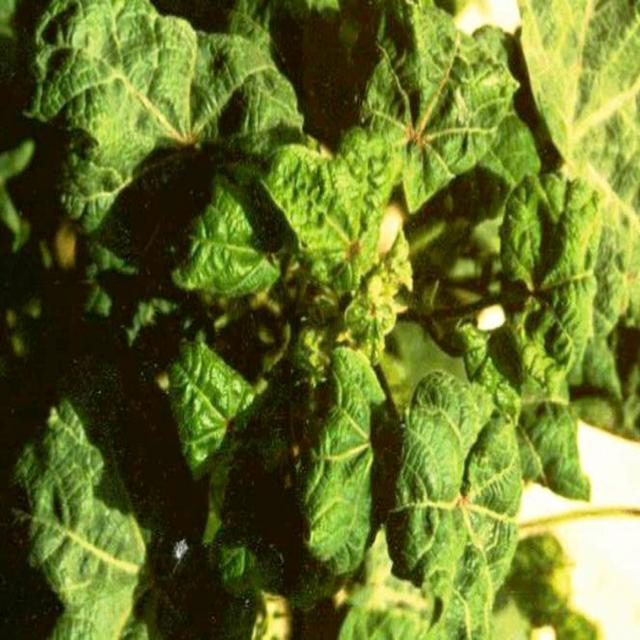Leaf Curl Virus: (80, 23, 582, 519)
